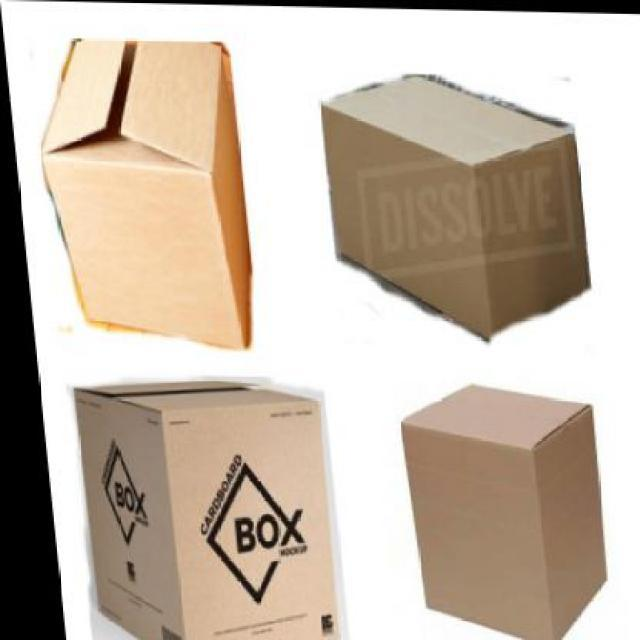box: (316, 72, 588, 332), (64, 375, 328, 638), (32, 39, 245, 344), (386, 376, 605, 638)
